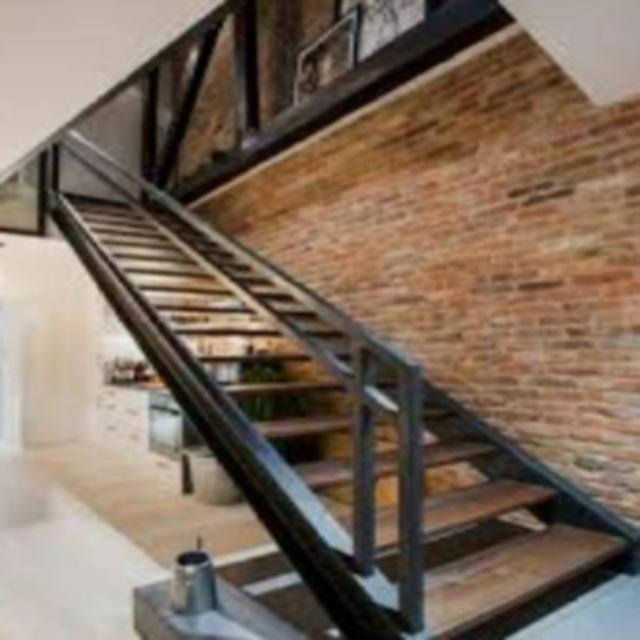stair: (48, 65, 640, 637)
